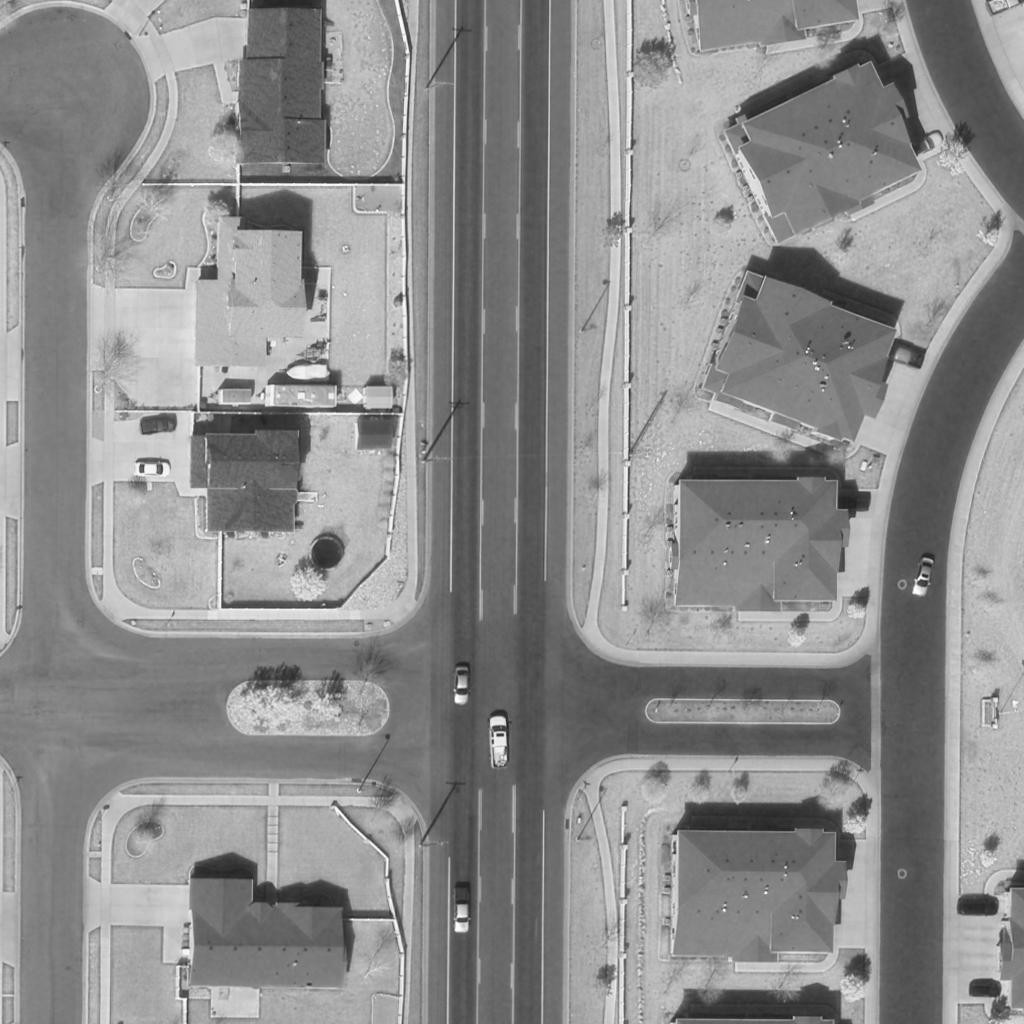vehicle: (264, 386, 338, 408), (882, 344, 926, 370), (910, 131, 946, 161), (912, 554, 936, 598), (281, 363, 333, 383), (490, 717, 510, 769), (453, 882, 471, 932), (141, 415, 179, 437), (959, 897, 999, 915), (135, 460, 173, 478), (968, 981, 1002, 999), (454, 665, 470, 703)
